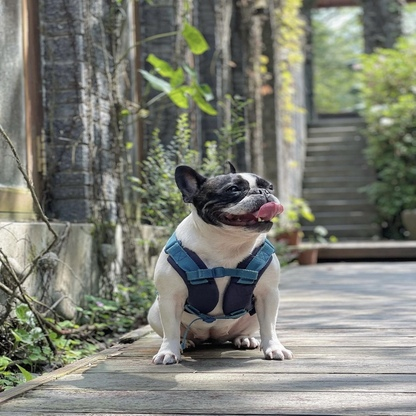bulldog: (144, 158, 294, 366)
